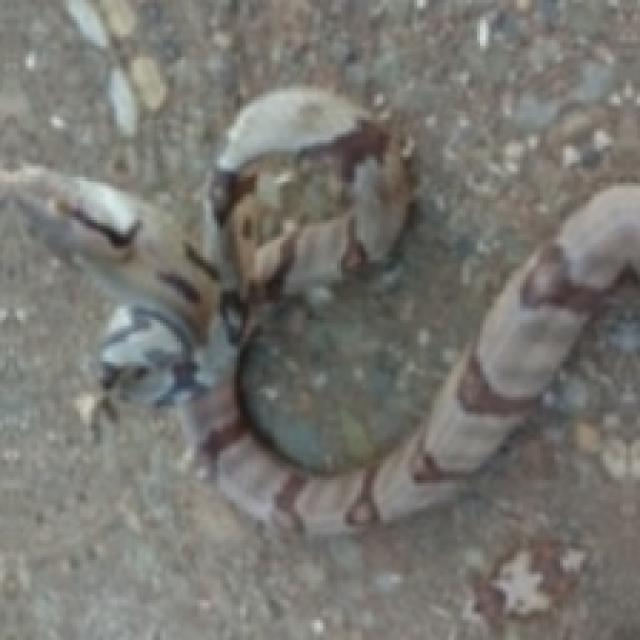dog-toothed cat snake: (0, 86, 637, 534), (209, 86, 409, 337)
